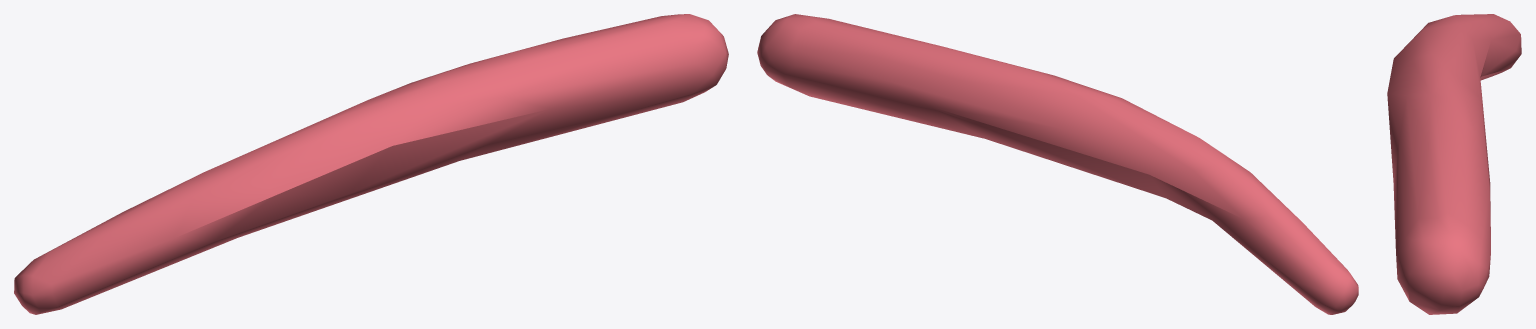
The model's file is fma8662_fj6097.glb.
The picture shows the model from 3 angles, left to right: view 1: azimuth 30°, elevation 25°; view 2: azimuth 150°, elevation 25°; view 3: azimuth 270°, elevation 25°; orthographic projection. The views are drawn at different scales.
Parts seen in each view (by area): view 1: FMA8662_FJ6097; view 2: FMA8662_FJ6097; view 3: FMA8662_FJ6097.
Part boxes in pixels (x1,y1,x2,y2): FMA8662_FJ6097: (14, 14, 728, 314); FMA8662_FJ6097: (757, 14, 1358, 314); FMA8662_FJ6097: (1387, 14, 1521, 314).
Size of the model in its own units: 0.0375 by 0.00857 by 0.00586.
